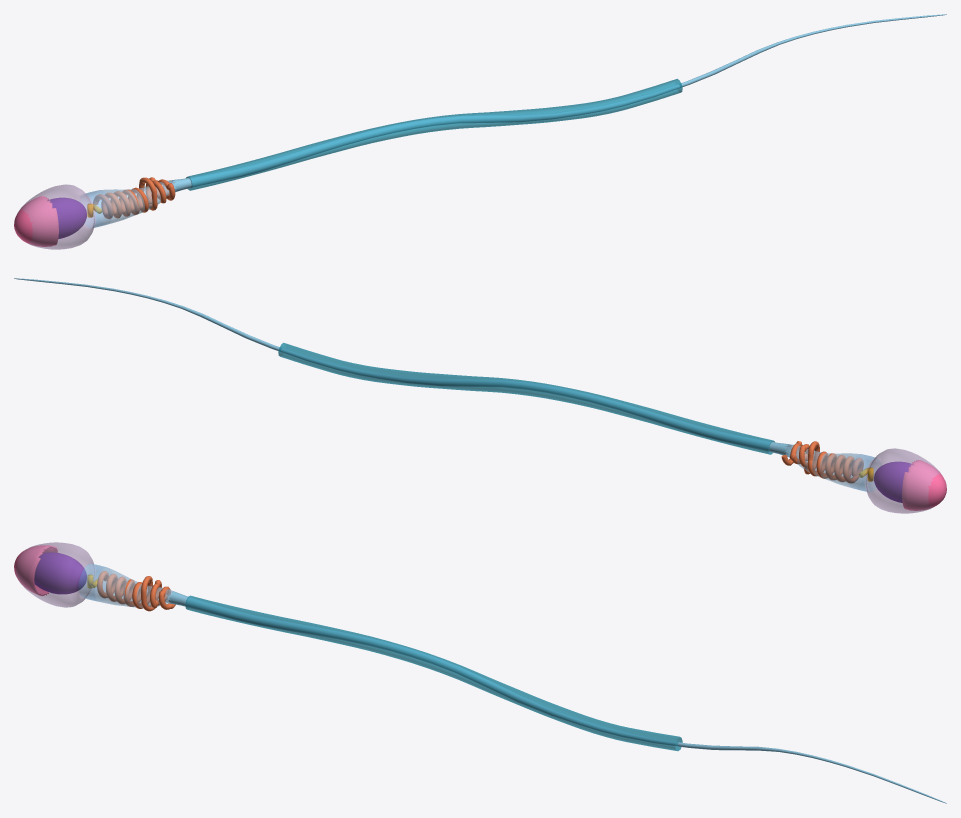
The model's file is sperm.glb.
3 views of the same model, one above another, from view 1: azimuth 30°, elevation 25°; view 2: azimuth 150°, elevation 25°; view 3: azimuth 330°, elevation 25° (orthographic).
Parts seen in each view (by area): view 1: cz-sheath, cz-tail, cz-head, cz-spiral, cz-acrosome, cz-middle, cz-nucleus, cz-neck; view 2: cz-sheath, cz-tail, cz-head, cz-spiral, cz-acrosome, cz-middle, cz-nucleus, cz-neck; view 3: cz-sheath, cz-tail, cz-head, cz-spiral, cz-nucleus, cz-middle, cz-acrosome, cz-neck.
Boxes of the visible parts, bbox=[...] form: cz-sheath: bbox=[186, 78, 682, 190]; cz-tail: bbox=[168, 14, 946, 191]; cz-head: bbox=[19, 184, 96, 249]; cz-spiral: bbox=[93, 177, 175, 219]; cz-acrosome: bbox=[14, 196, 58, 246]; cz-middle: bbox=[96, 180, 175, 223]; cz-nucleus: bbox=[48, 197, 86, 238]; cz-neck: bbox=[79, 190, 112, 228]; cz-sheath: bbox=[278, 342, 774, 454]; cz-tail: bbox=[14, 278, 792, 457]; cz-head: bbox=[864, 448, 941, 513]; cz-spiral: bbox=[781, 441, 863, 483]; cz-acrosome: bbox=[902, 460, 946, 510]; cz-middle: bbox=[785, 444, 865, 487]; cz-nucleus: bbox=[874, 461, 912, 502]; cz-neck: bbox=[848, 454, 881, 492]; cz-sheath: bbox=[185, 595, 682, 751]; cz-tail: bbox=[165, 591, 946, 803]; cz-head: bbox=[16, 542, 95, 607]; cz-spiral: bbox=[97, 571, 175, 611]; cz-nucleus: bbox=[34, 552, 86, 594]; cz-middle: bbox=[95, 567, 173, 608]; cz-acrosome: bbox=[14, 545, 57, 595]; cz-neck: bbox=[78, 563, 111, 601].
Size of the model in its own units: 26.4 by 1.58 by 1.58.
